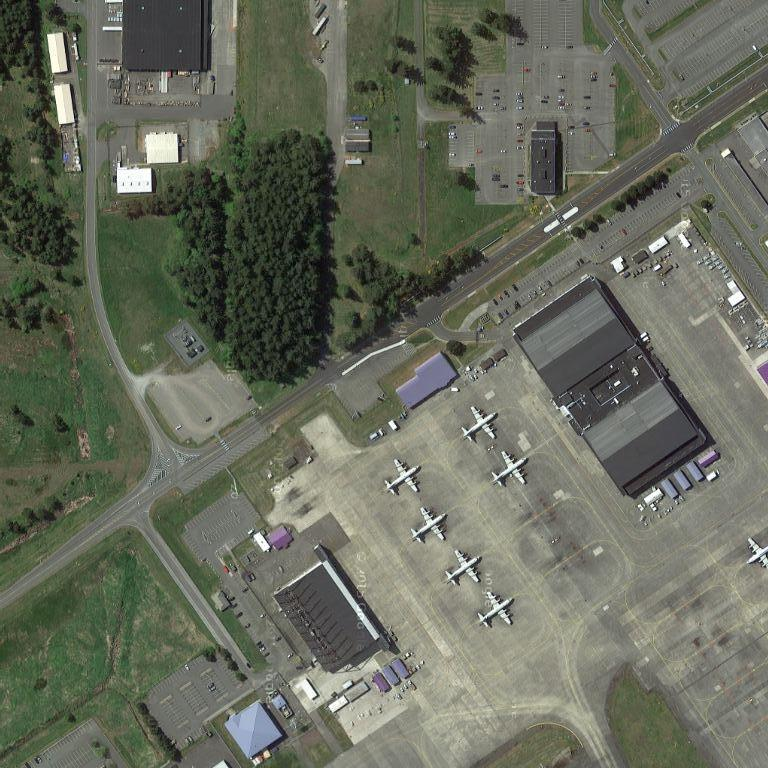P-3C: (486, 448, 531, 493), (407, 503, 450, 549), (382, 457, 423, 502), (458, 404, 501, 446), (444, 546, 483, 590), (476, 592, 518, 632), (743, 532, 766, 570)
